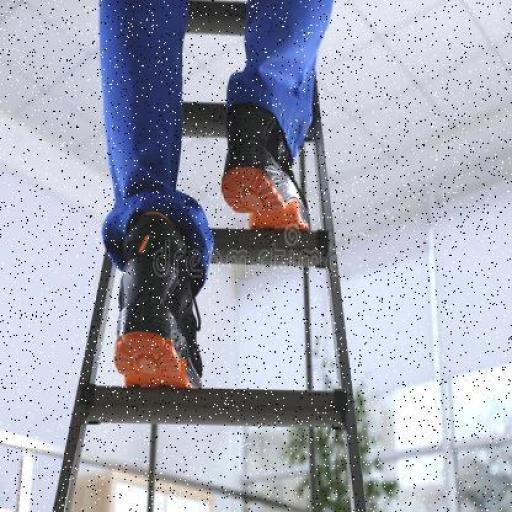safety_shoe: (119, 228, 208, 394), (221, 109, 312, 234)
